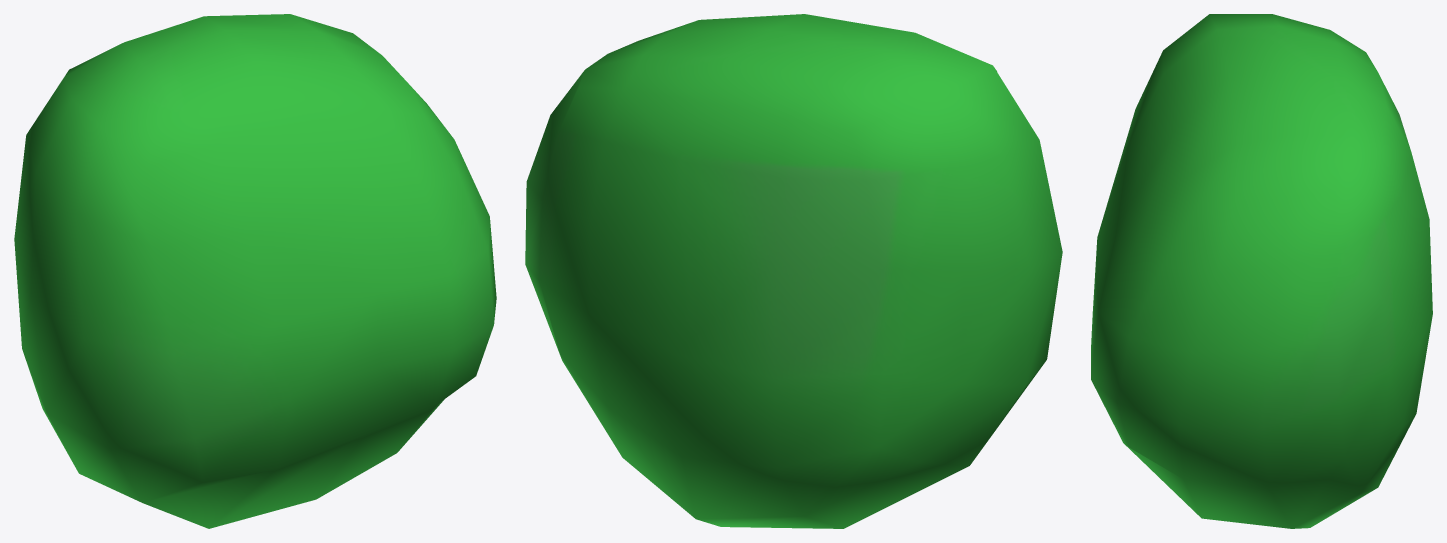
The model's file is TRee Top 5.fbx.
The picture shows the model from 3 angles, left to right: view 1: azimuth 30°, elevation 25°; view 2: azimuth 150°, elevation 25°; view 3: azimuth 270°, elevation 25°; orthographic projection. The views are drawn at different scales.
Visible parts, largest first — view 1: Group8411; view 2: Group8411; view 3: Group8411.
Part boxes in pixels (x1,y1,x2,y2): Group8411: [14, 14, 496, 528]; Group8411: [525, 14, 1062, 528]; Group8411: [1091, 14, 1432, 528].
Size of the model in its own units: 0.8961 by 0.9031 by 0.6308.
Materials: 1 (1 with a texture image).
